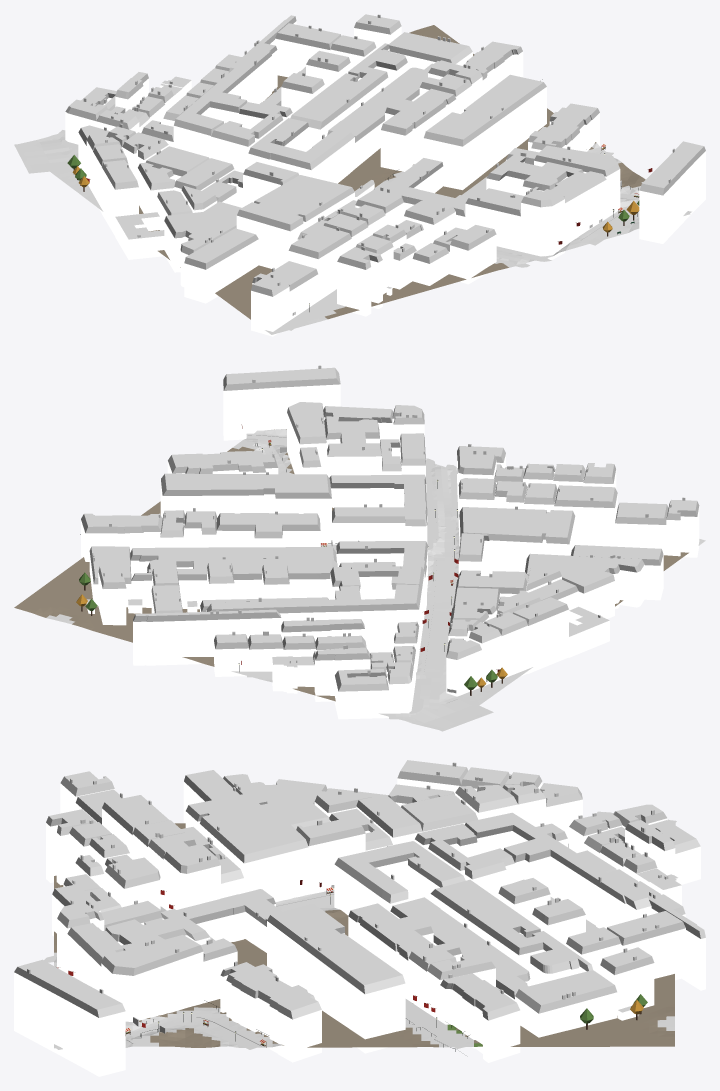
Rendered from zone_D5.glb.
3 renders of one model, top to bottom at view 1: azimuth 30°, elevation 25°; view 2: azimuth 150°, elevation 25°; view 3: azimuth 270°, elevation 25°, orthographic. The views are drawn at different scales.
Visible parts, largest first — view 1: zone_D5_batiments, zone_D5_terrain, zone_D5_sol_NOCOL, zone_D5_decor_NOCOL; view 2: zone_D5_batiments, zone_D5_sol_NOCOL, zone_D5_terrain, zone_D5_decor_NOCOL; view 3: zone_D5_batiments, zone_D5_terrain, zone_D5_sol_NOCOL, zone_D5_decor_NOCOL.
Boxes of the visible parts, x1,y1,x2,y2 form: zone_D5_batiments: (65, 14, 705, 336); zone_D5_terrain: (49, 25, 690, 334); zone_D5_sol_NOCOL: (14, 130, 691, 330); zone_D5_decor_NOCOL: (67, 79, 639, 311); zone_D5_batiments: (81, 365, 699, 719); zone_D5_sol_NOCOL: (246, 433, 493, 731); zone_D5_terrain: (14, 429, 705, 727); zone_D5_decor_NOCOL: (76, 443, 507, 695); zone_D5_batiments: (14, 760, 705, 1076); zone_D5_terrain: (54, 823, 674, 1048); zone_D5_sol_NOCOL: (44, 811, 676, 1049); zone_D5_decor_NOCOL: (140, 894, 647, 1051).
Bounding box in the file's own units: 229 × 33.96 × 237.
